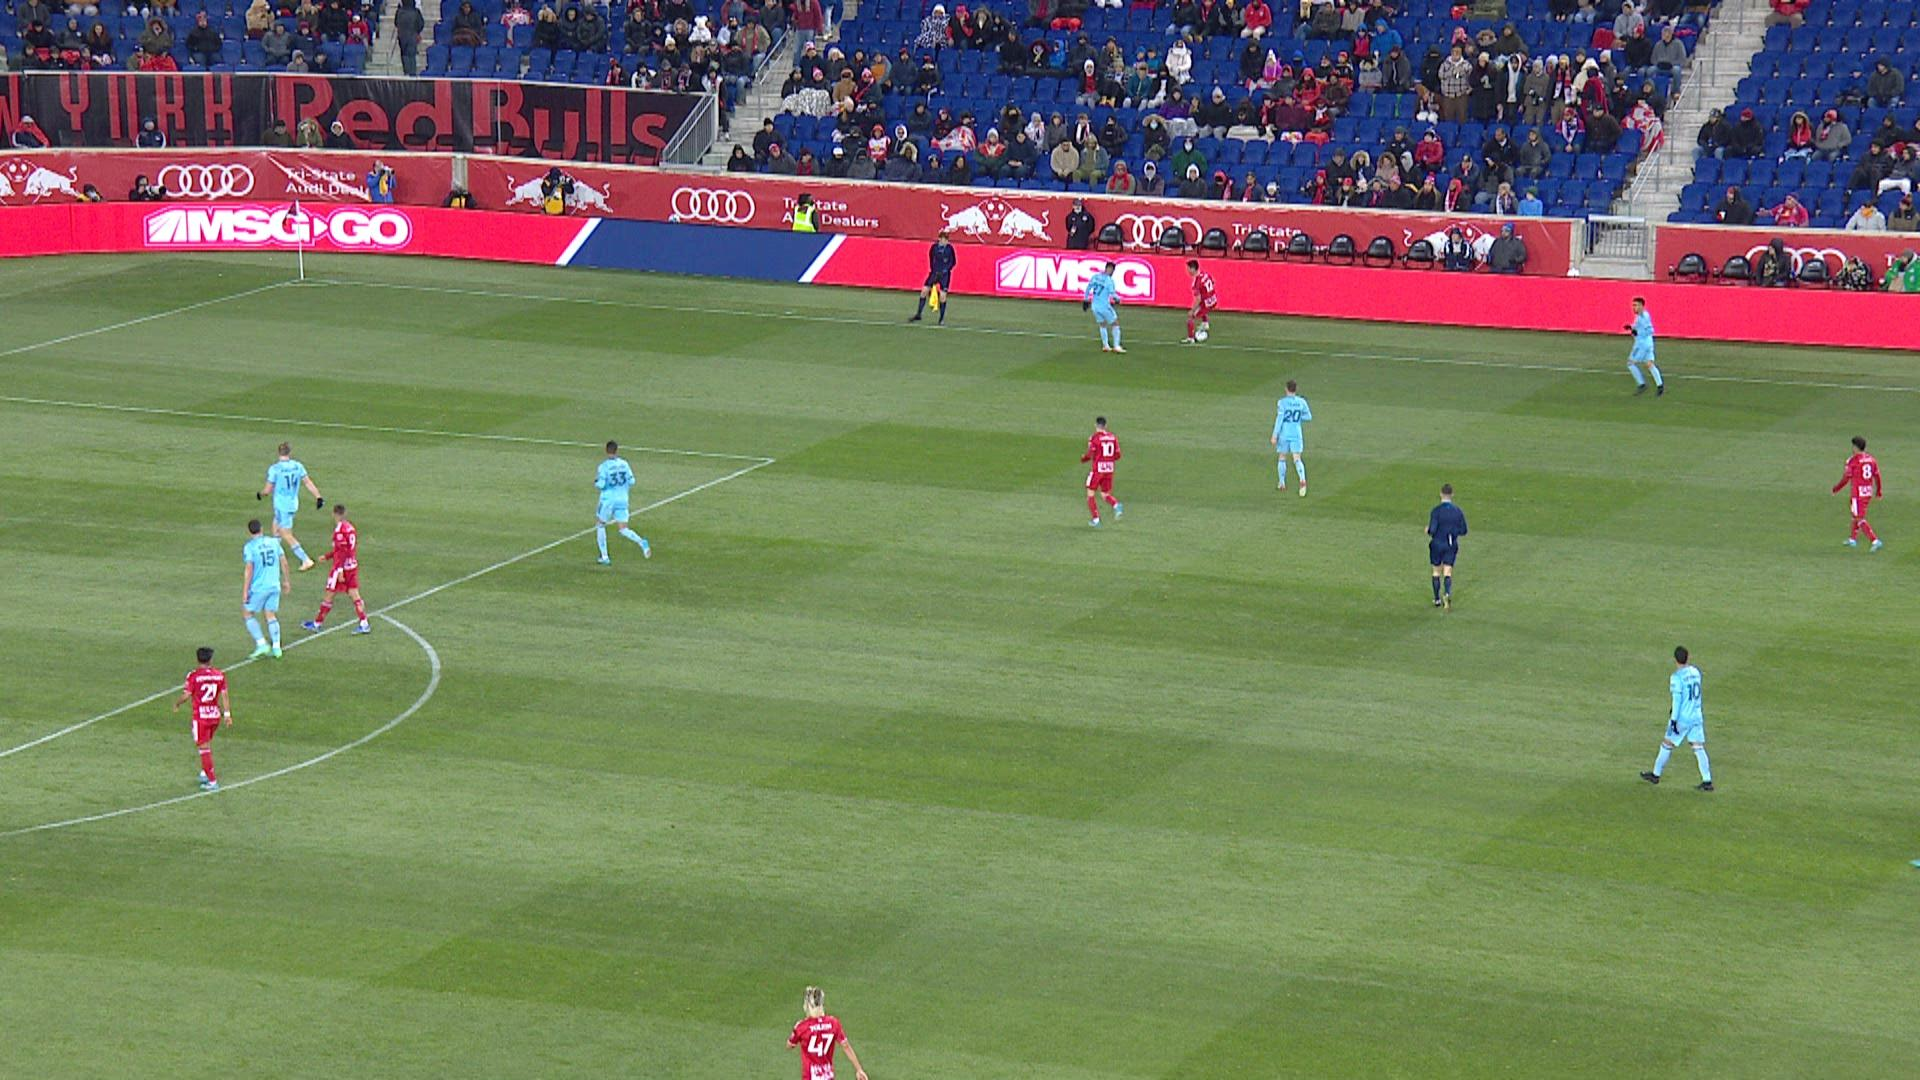football: (1195, 330, 1209, 342)
